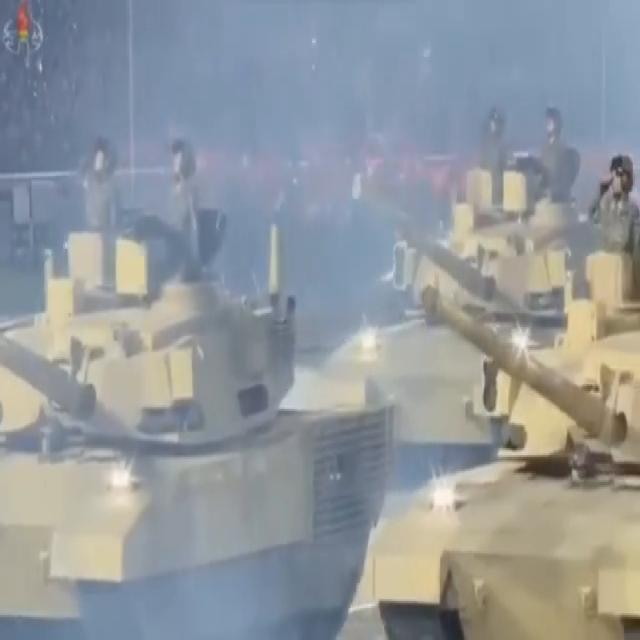north tank: (0, 201, 398, 640), (365, 249, 640, 640), (324, 147, 578, 460)
